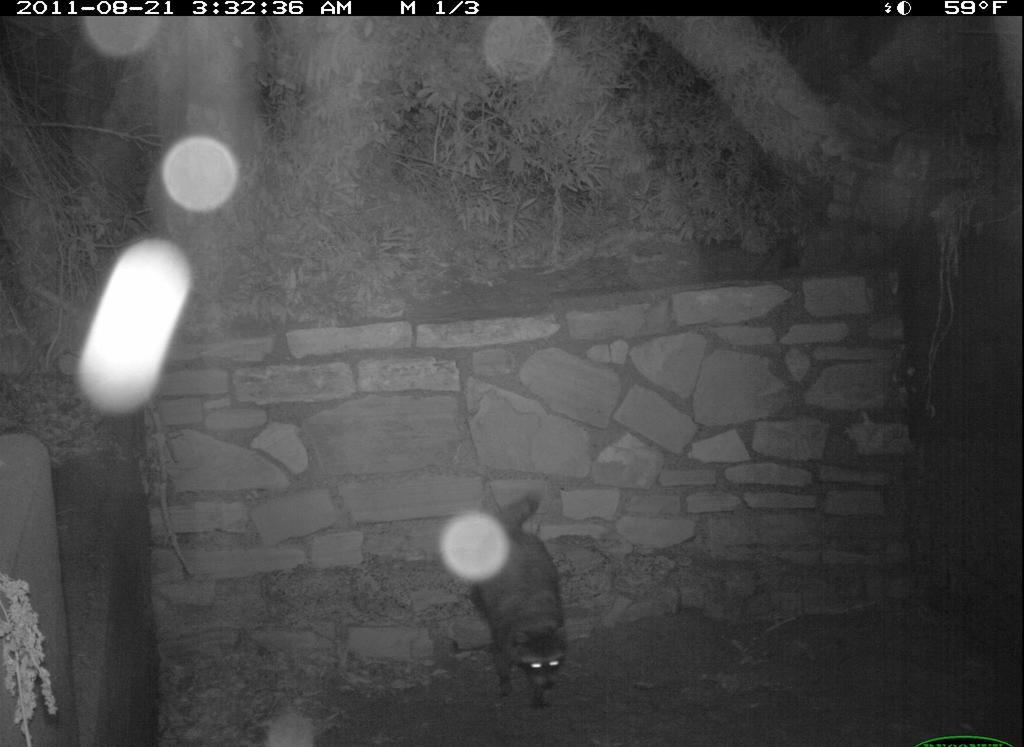raccoon: (454, 496, 583, 710)
